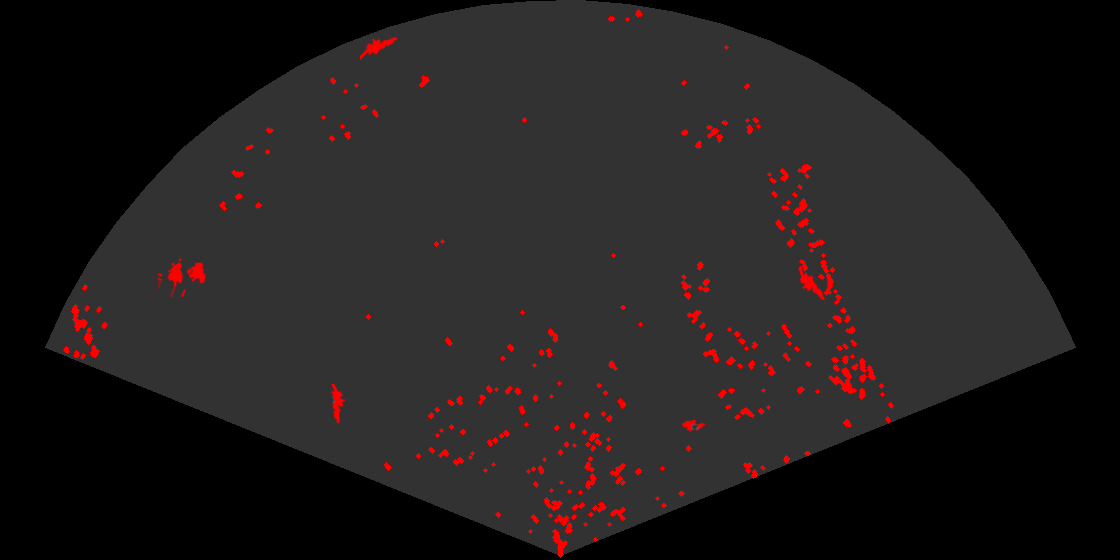AUV: (680, 418, 707, 433)
cage: (158, 257, 207, 297)
frogman: (797, 268, 826, 307), (360, 35, 399, 62), (329, 384, 347, 424)
